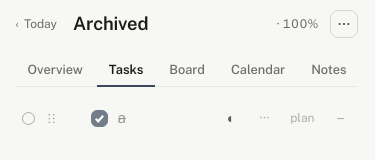
Test: the compact goal header › offers Reopen once a goal is completed
The width and height of the screenshot is (375, 160).
Click the button named "Goal actions" at (344, 24), box [330,10,358,38]
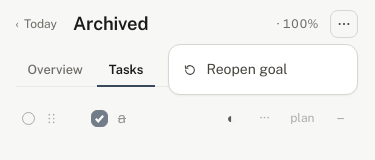
Now the menu item "Reopen goal" is shown, box [170,51,358,88]
